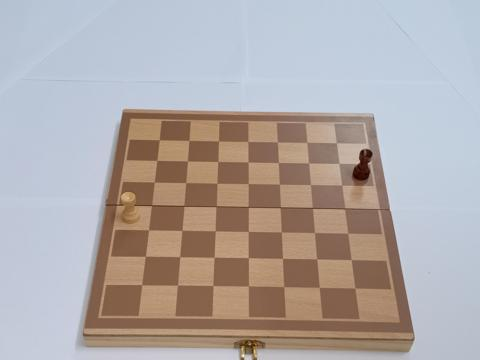xcorner: (144, 227, 154, 237), (153, 157, 162, 167), (150, 179, 159, 189), (147, 203, 157, 212), (141, 254, 151, 263), (181, 180, 191, 189), (214, 138, 224, 147), (244, 229, 254, 238), (274, 138, 283, 148), (277, 204, 286, 214), (279, 255, 288, 265), (280, 283, 289, 293), (315, 284, 325, 293), (155, 137, 164, 146), (138, 282, 147, 291), (185, 137, 194, 146), (183, 158, 192, 167), (180, 203, 189, 212), (178, 228, 187, 237), (176, 254, 185, 263), (174, 282, 183, 291), (214, 158, 223, 167), (213, 180, 222, 189), (212, 204, 221, 213), (211, 228, 220, 237), (210, 255, 219, 264), (209, 283, 218, 292), (244, 138, 253, 147), (244, 159, 253, 168), (244, 181, 253, 190), (244, 204, 253, 213), (245, 255, 254, 264), (245, 283, 254, 292), (275, 159, 284, 168), (276, 181, 285, 190), (278, 229, 287, 238), (303, 139, 312, 148), (305, 160, 314, 169), (307, 182, 316, 191), (309, 205, 318, 214), (311, 230, 320, 239), (313, 256, 322, 265), (333, 139, 342, 148), (335, 160, 344, 169), (338, 182, 347, 191), (341, 205, 350, 214), (344, 230, 353, 239), (347, 256, 356, 265), (351, 284, 360, 293)
